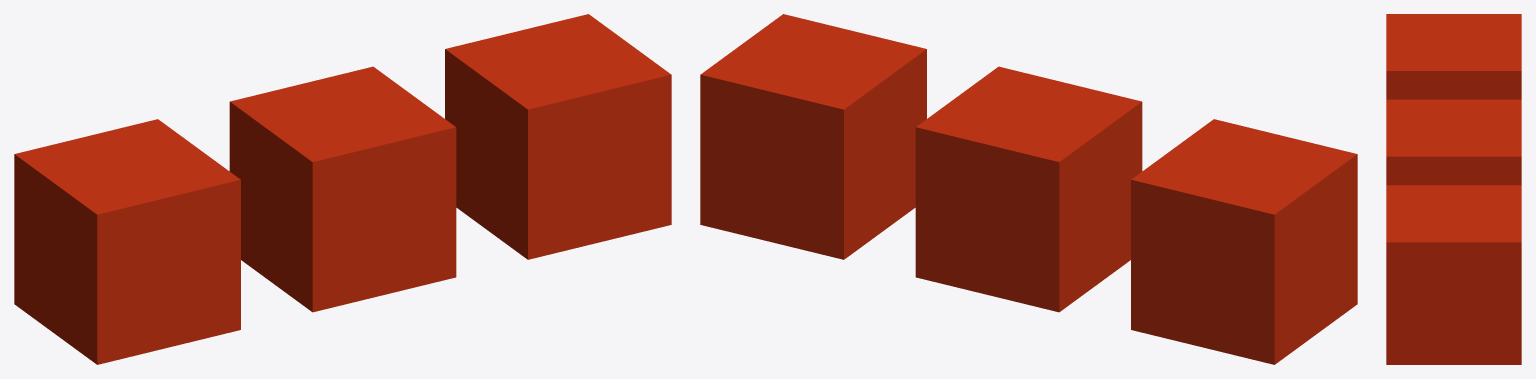
Rendered from multi-cube.obj.
3 renders of one model, left to right at view 1: azimuth 30°, elevation 25°; view 2: azimuth 150°, elevation 25°; view 3: azimuth 270°, elevation 25°, orthographic. The views are drawn at different scales.
Parts seen in each view (by area): view 1: Cube.002, Cube.000_Cube.003, Cube.001_Cube.004; view 2: Cube.002, Cube.000_Cube.003, Cube.001_Cube.004; view 3: Cube.001_Cube.004, Cube.000_Cube.003, Cube.002.
Boxes of the visible parts, x1=… form: Cube.002: x1=14, y1=119, x2=240, y2=364; Cube.000_Cube.003: x1=229, y1=66, x2=456, y2=312; Cube.001_Cube.004: x1=445, y1=14, x2=671, y2=259; Cube.002: x1=1131, y1=119, x2=1357, y2=364; Cube.000_Cube.003: x1=915, y1=66, x2=1142, y2=312; Cube.001_Cube.004: x1=700, y1=14, x2=926, y2=259; Cube.001_Cube.004: x1=1386, y1=185, x2=1521, y2=364; Cube.000_Cube.003: x1=1386, y1=99, x2=1521, y2=185; Cube.002: x1=1386, y1=14, x2=1521, y2=99.
Bounding box in the file's own units: 8 × 2 × 2.
